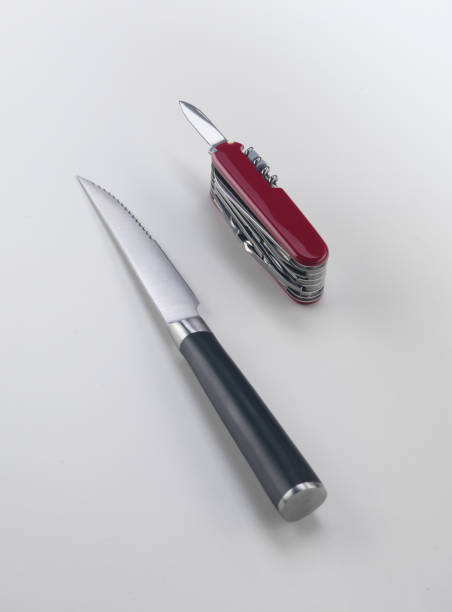knife: (72, 171, 331, 526), (174, 97, 332, 310)
